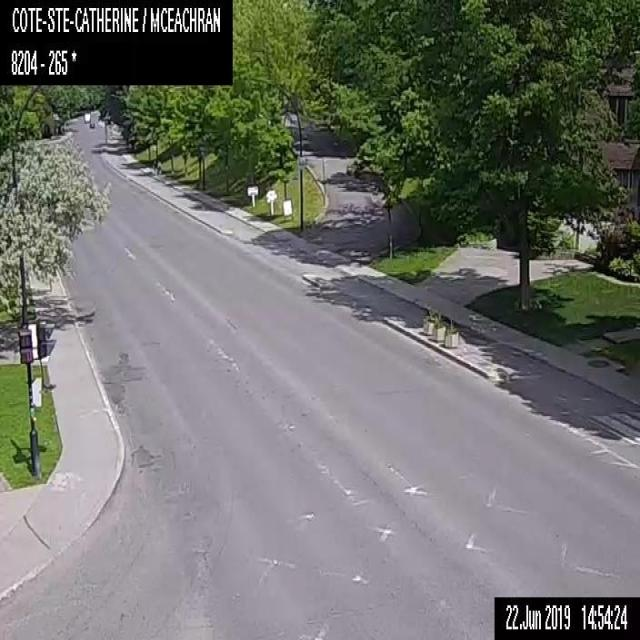vehicle: (83, 112, 90, 122), (89, 121, 94, 127)
